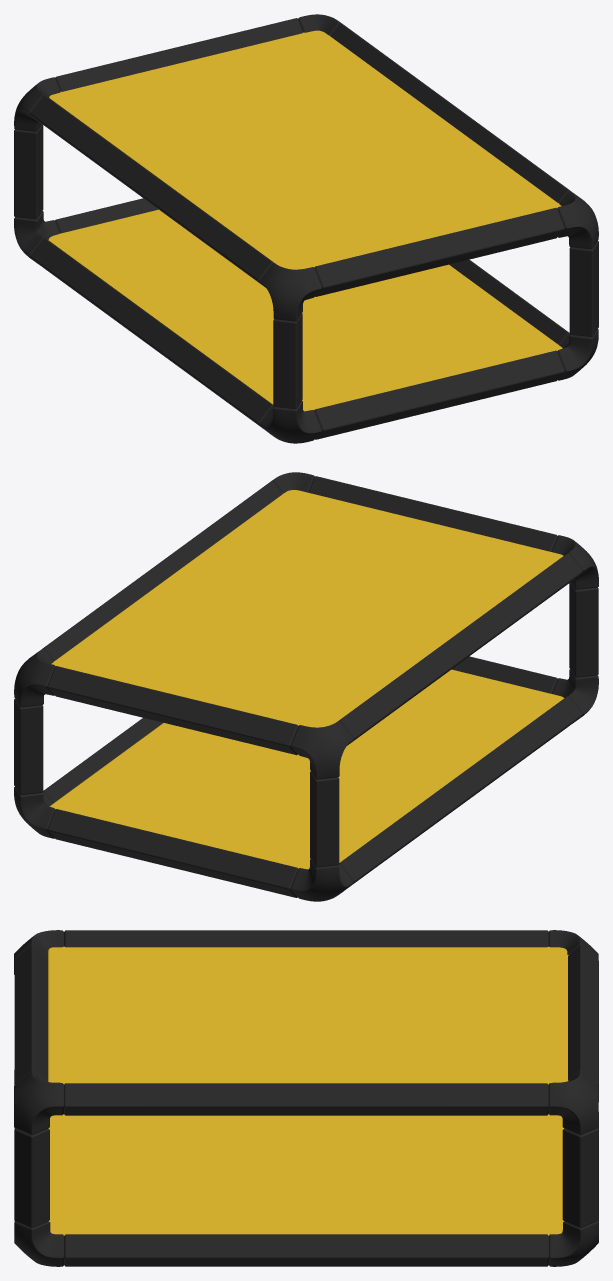
3 views of the same model, one above another, from view 1: azimuth 30°, elevation 25°; view 2: azimuth 150°, elevation 25°; view 3: azimuth 270°, elevation 25° (orthographic). The views are drawn at different scales.
Parts seen in each view (by area): view 1: 229x374x79; view 2: 229x374x79; view 3: 229x374x79.
Boxes of the visible parts, x1,y1,x2,y2 form: 229x374x79: (14,14,598,443); 229x374x79: (14,472,598,901); 229x374x79: (14,930,598,1266).
Bounding box in the file's own units: 0.3067 × 0.1566 × 0.4513.
